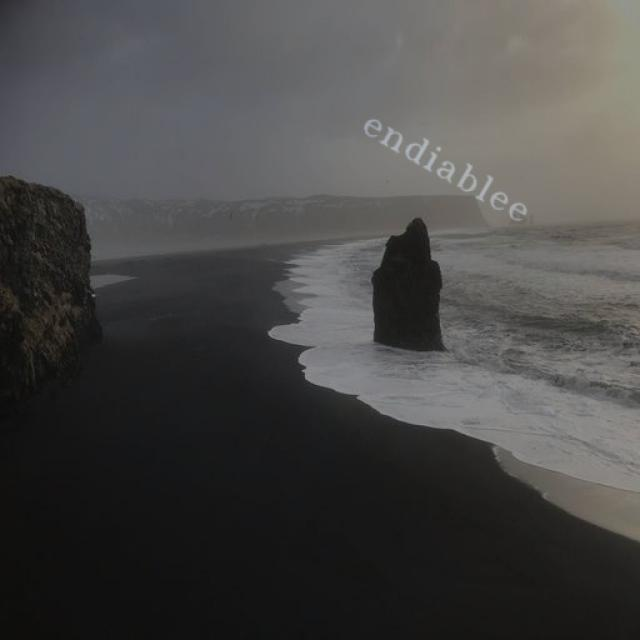watermark: (350, 102, 547, 230)
